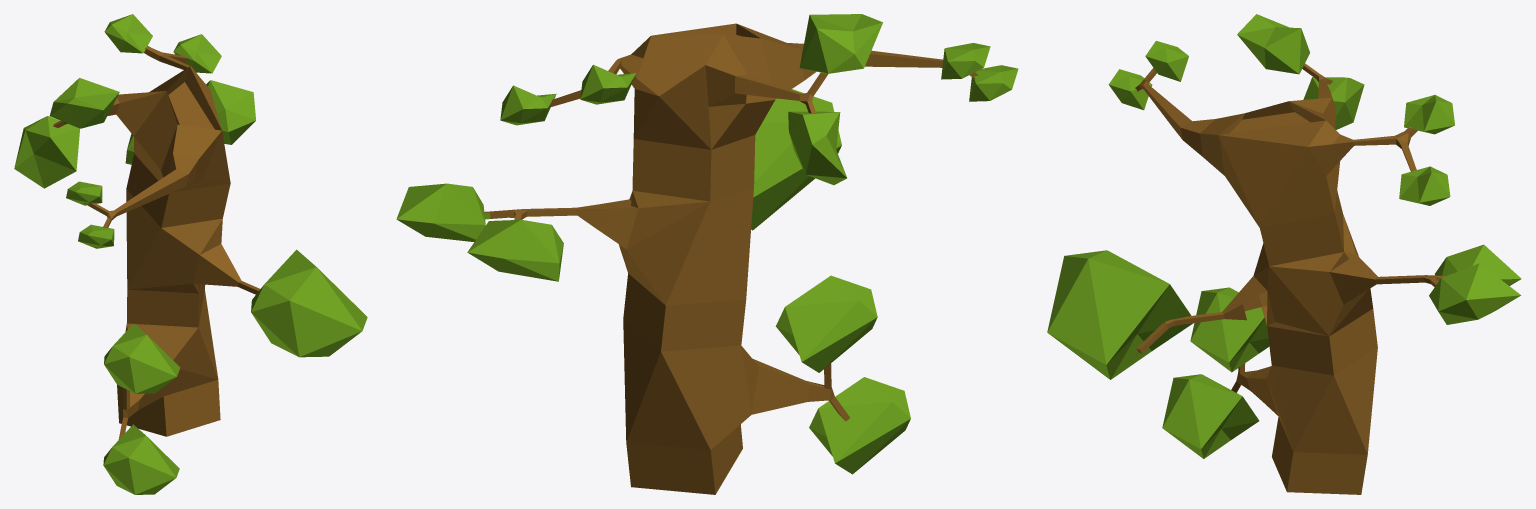
Rendered from TreeType5.fbx.
3 views of the same model, side by side, from view 1: azimuth 30°, elevation 25°; view 2: azimuth 150°, elevation 25°; view 3: azimuth 270°, elevation 25° (orthographic). The views are drawn at different scales.
Parts seen in each view (by area): view 1: Tree Type 5; view 2: Tree Type 5; view 3: Tree Type 5.
Boxes of the visible parts, <box> form: Tree Type 5: <box>14,14,367,494</box>; Tree Type 5: <box>396,14,1018,494</box>; Tree Type 5: <box>1047,14,1521,494</box>.
Bounding box in the file's own units: 788 × 888 × 919.
